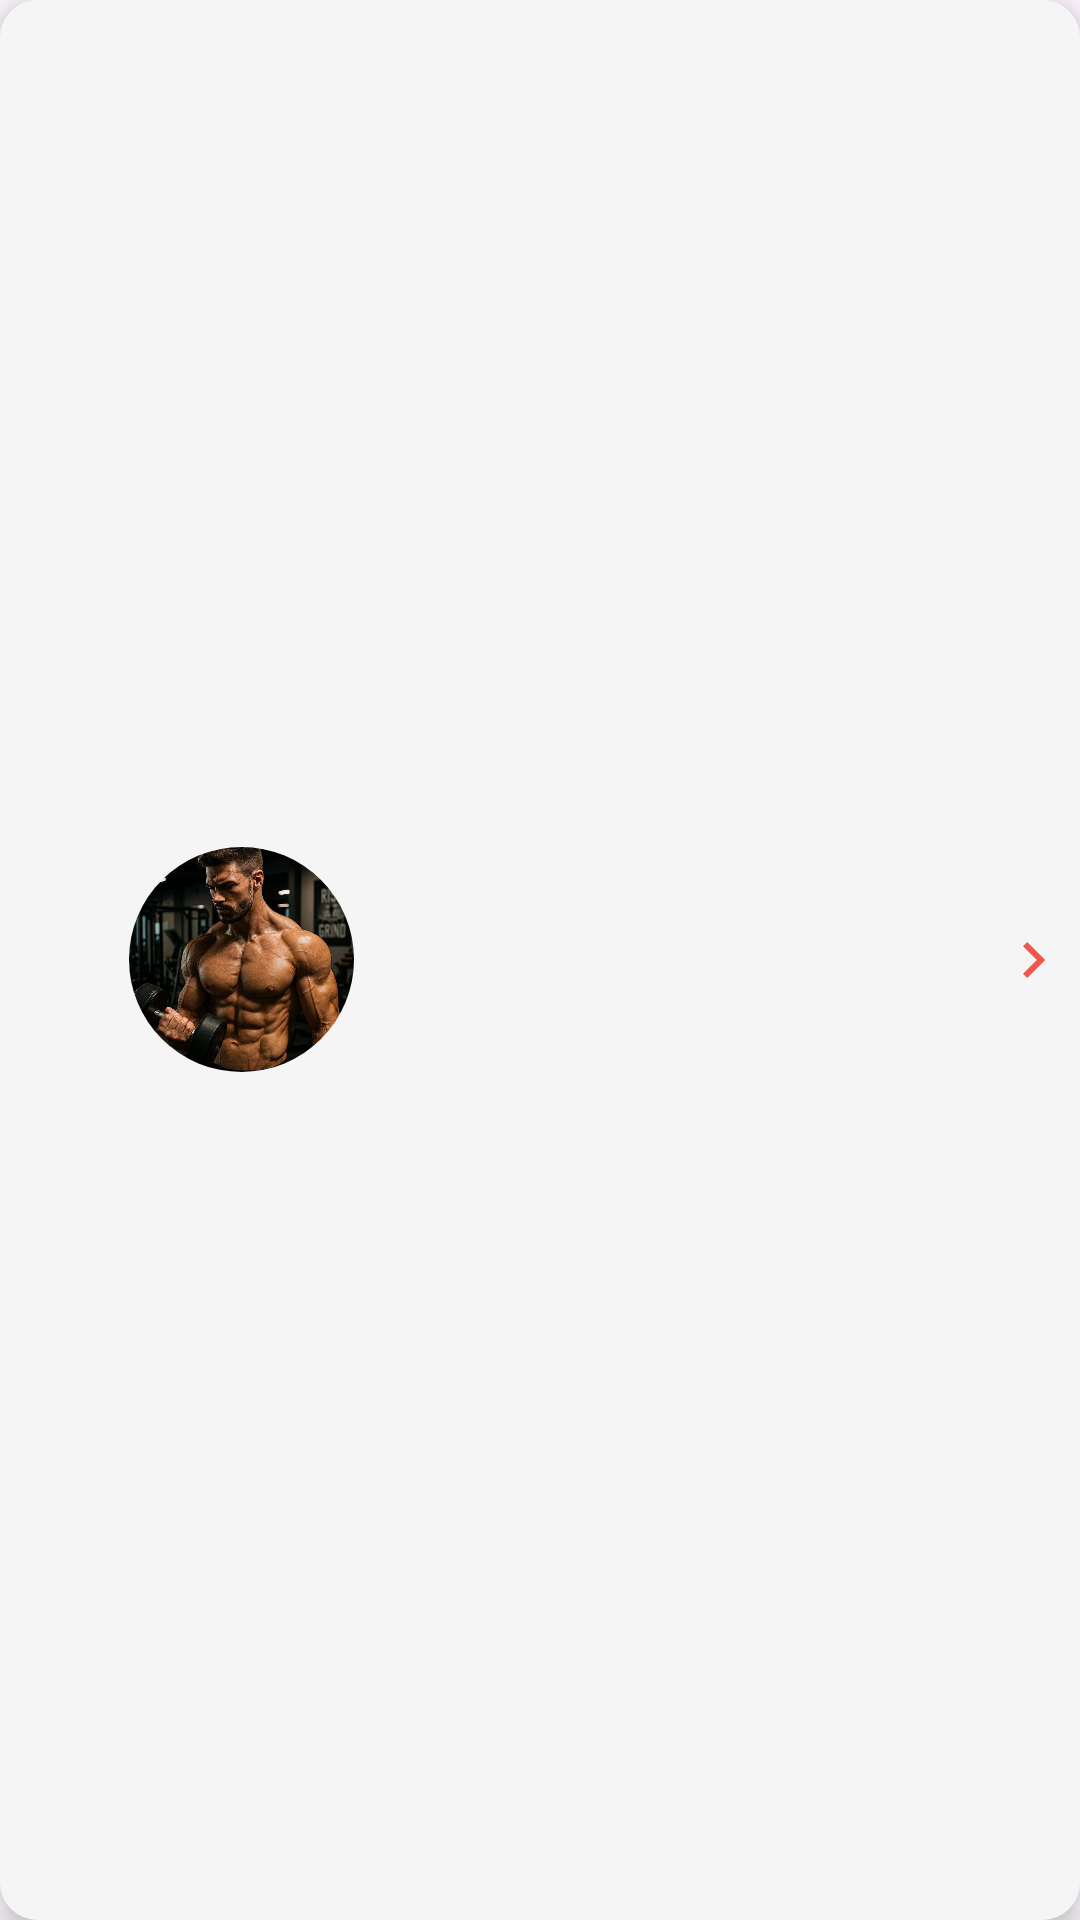

Icons on this 1080×1920 Android screen, each with the point to tap as [x,y]:
forward arrow: [1034,960]
Workout icon: [241,959]
